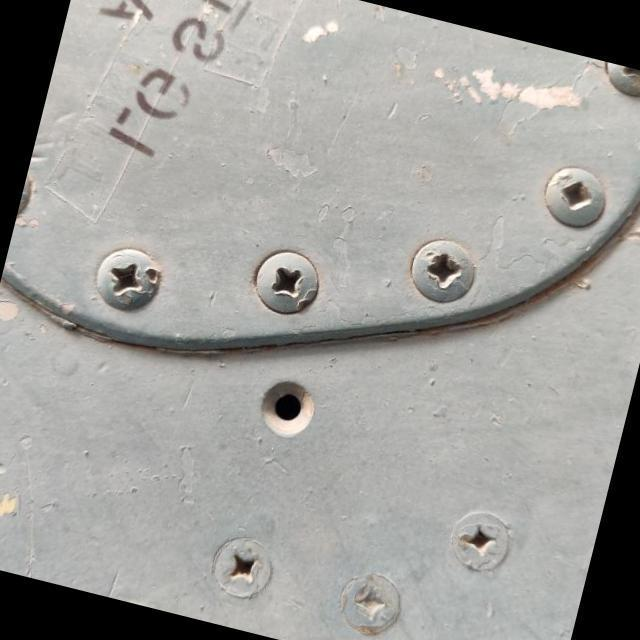Fastener Damage: (216, 336, 360, 476)
